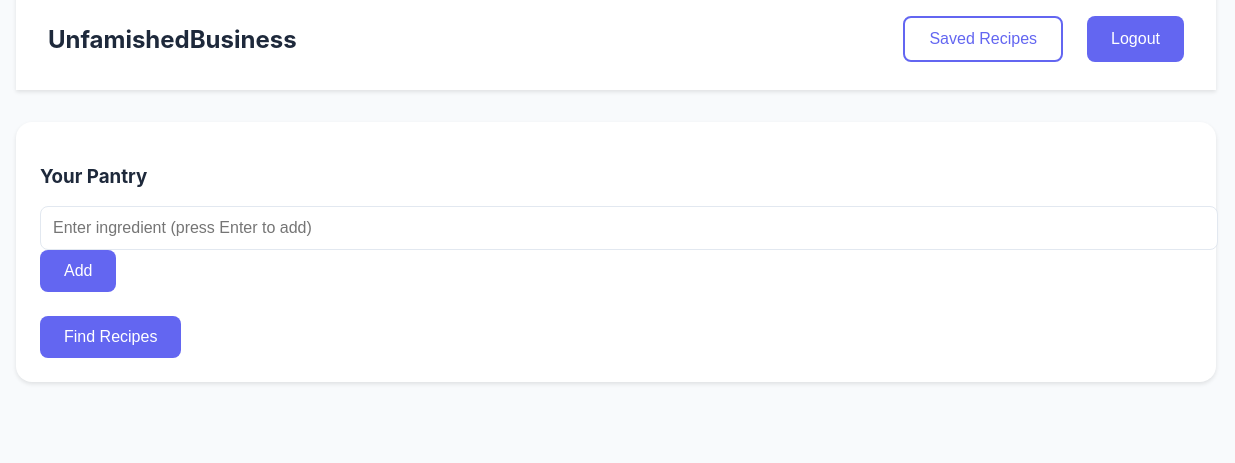
Scenario: Search Component › handles API errors gracefully
Type "Egg" into the field with placeholder "Enter ingredient (press Enter to add)" at {"x": 629, "y": 228}, box x1=40 y1=206 x2=1218 y2=250
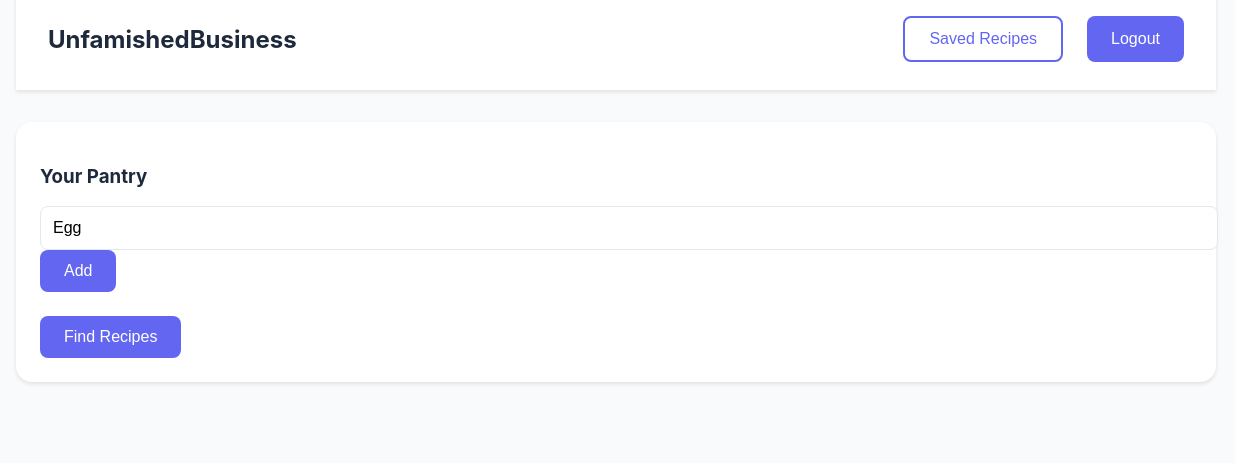
Click the button "Add" at {"x": 78, "y": 271}, box x1=40 y1=250 x2=116 y2=292
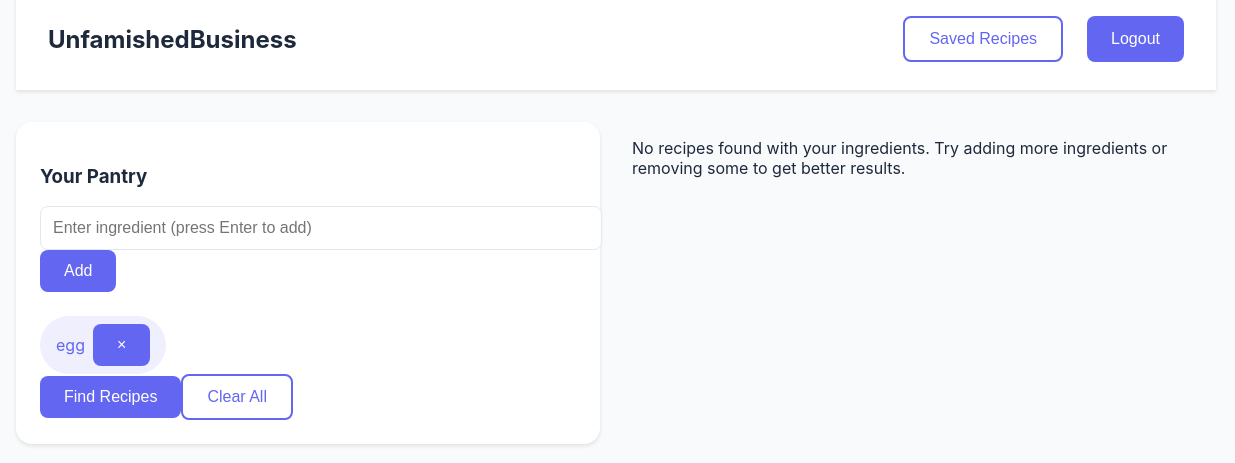
Click the button "Find Recipes" at {"x": 111, "y": 397}, box x1=40 y1=376 x2=181 y2=418
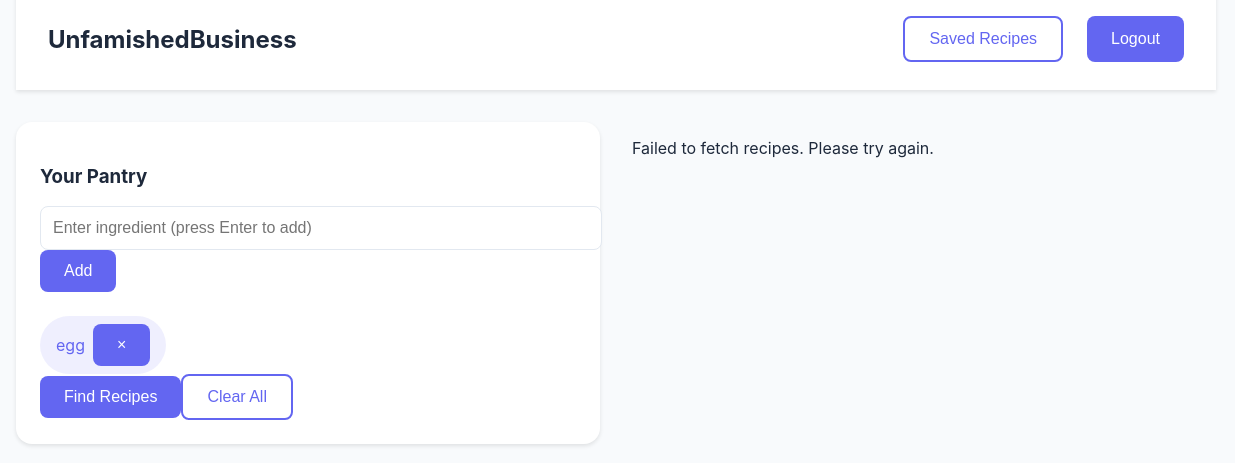
Expected: the text "Failed to fetch recipes. Please try again." is shown, x1=632 y1=138 x2=934 y2=158
